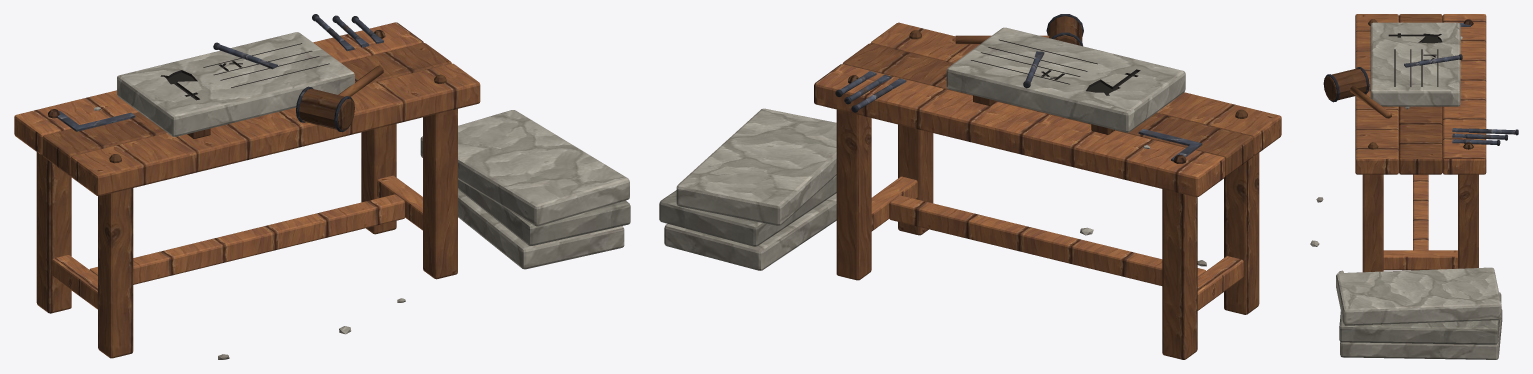
The model's file is qb_mason_bench.glb.
The picture shows the model from 3 angles, left to right: view 1: azimuth 30°, elevation 25°; view 2: azimuth 150°, elevation 25°; view 3: azimuth 270°, elevation 25°; orthographic projection. The views are drawn at different scales.
Parts seen in each view (by area): view 1: model; view 2: model; view 3: model.
Part boxes in pixels (box(x1,y1,x2,y2)): model: box(14, 14, 630, 359); model: box(659, 14, 1281, 359); model: box(1310, 14, 1518, 359).
Bounding box in the file's own units: 1.8 × 0.745 × 0.7871.
10 materials, 9 textured.
